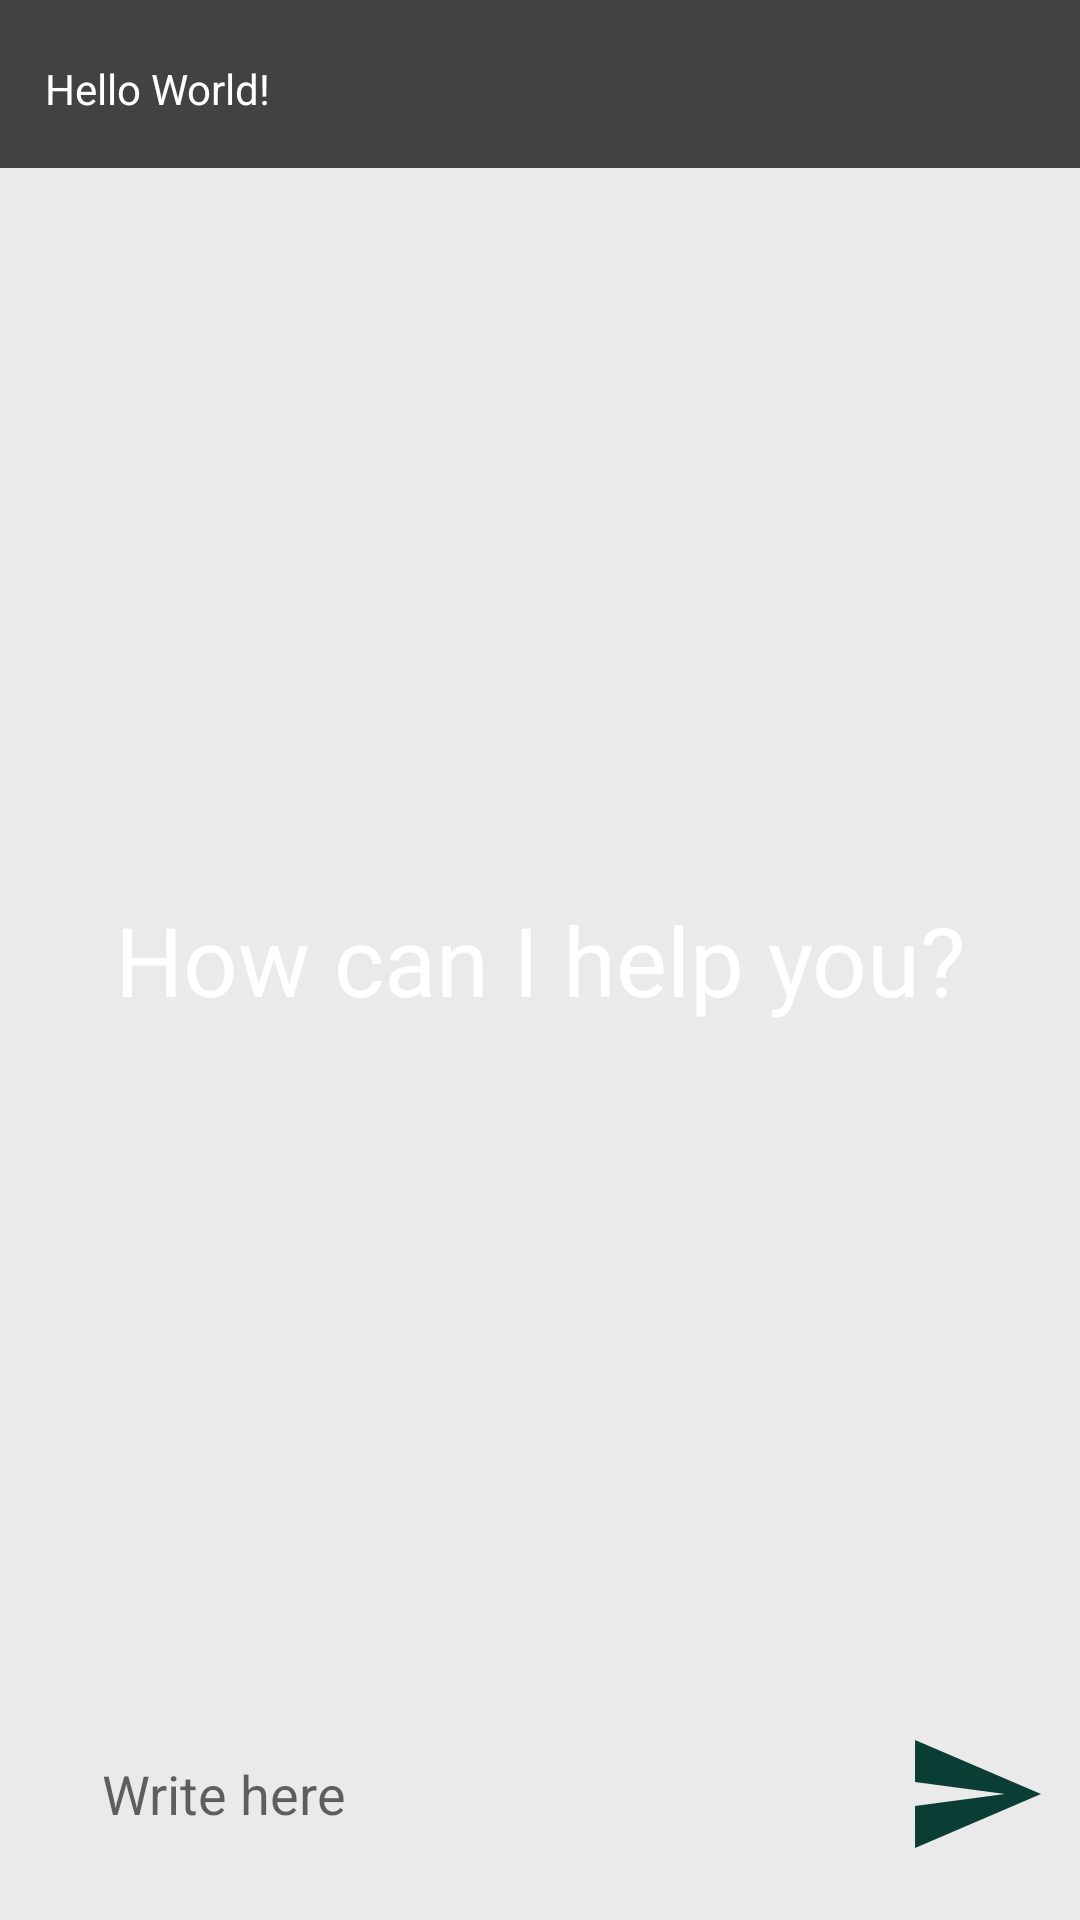

Point at icon controls on the screen. Image size 1080px x 1920px, points as [x,y].
send: [978,1794]
